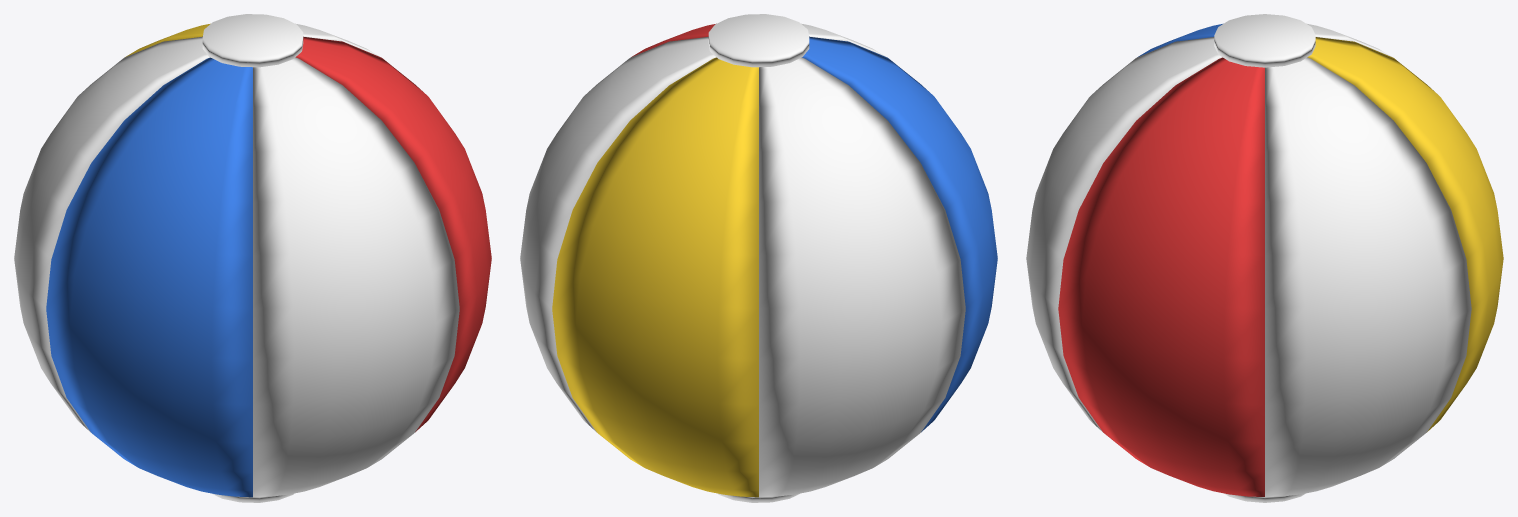
The model's file is MessyMemoryBall.obj.
3 renders of one model, left to right at view 1: azimuth 30°, elevation 25°; view 2: azimuth 150°, elevation 25°; view 3: azimuth 270°, elevation 25°, orthographic.
Visible parts, largest first — view 1: White, Blue, Red; view 2: White, Yellow, Blue; view 3: White, Red, Yellow.
Part boxes in pixels (x1,y1,x2,y2): White: [14, 14, 459, 502]; Blue: [46, 57, 252, 497]; Red: [295, 36, 491, 432]; White: [520, 14, 965, 502]; Yellow: [552, 57, 758, 497]; Blue: [802, 36, 997, 432]; White: [1026, 14, 1471, 502]; Red: [1058, 57, 1264, 496]; Yellow: [1307, 37, 1503, 431].
Size of the model in its own units: 1.6 by 1.65 by 1.6.
